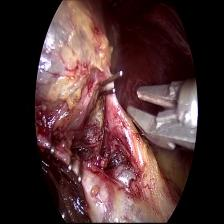Clipper: (125, 77, 198, 151)
